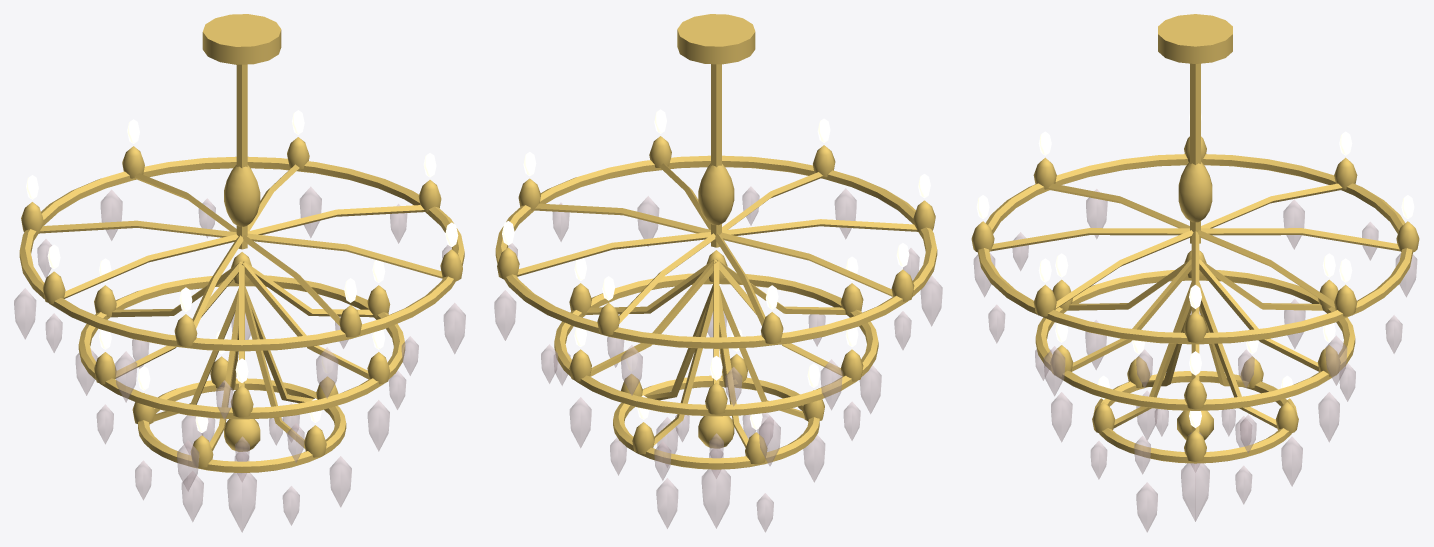
Rendered from chandelier_crystal.glb.
The picture shows the model from 3 angles, left to right: view 1: azimuth 30°, elevation 25°; view 2: azimuth 150°, elevation 25°; view 3: azimuth 270°, elevation 25°; orthographic projection. The views are drawn at different scales.
Parts seen in each view (by area): view 1: chandelier_crystal; view 2: chandelier_crystal; view 3: chandelier_crystal.
Part boxes in pixels (bbox=[...]): chandelier_crystal: bbox=[14, 14, 465, 532]; chandelier_crystal: bbox=[494, 14, 942, 532]; chandelier_crystal: bbox=[971, 14, 1419, 532].
Size of the model in its own units: 1.16 by 1.4 by 1.16.
